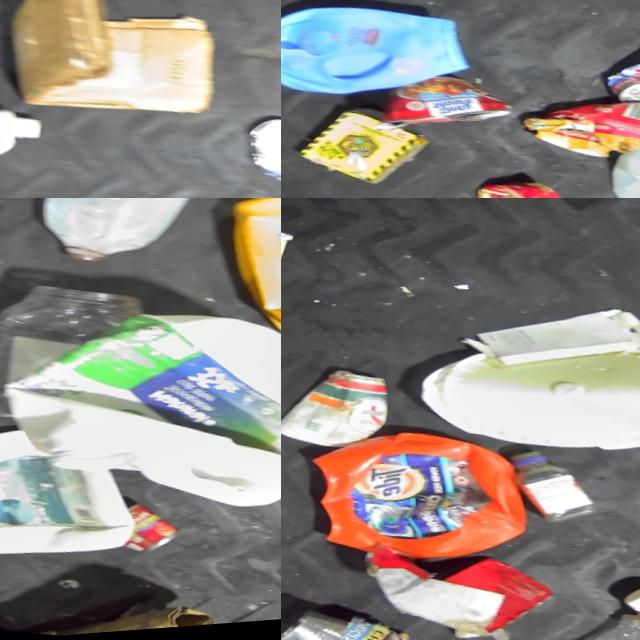can: (296, 364, 404, 459), (281, 606, 416, 640), (116, 503, 184, 570), (242, 113, 281, 198)
milk_jug: (0, 277, 281, 548), (0, 402, 147, 594), (29, 198, 203, 285), (0, 74, 61, 198)
non_white_jug: (308, 422, 549, 587), (281, 0, 478, 124), (204, 198, 281, 371)
